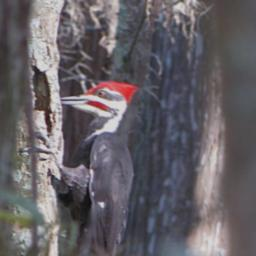Woodpecker: (19, 81, 142, 256)
